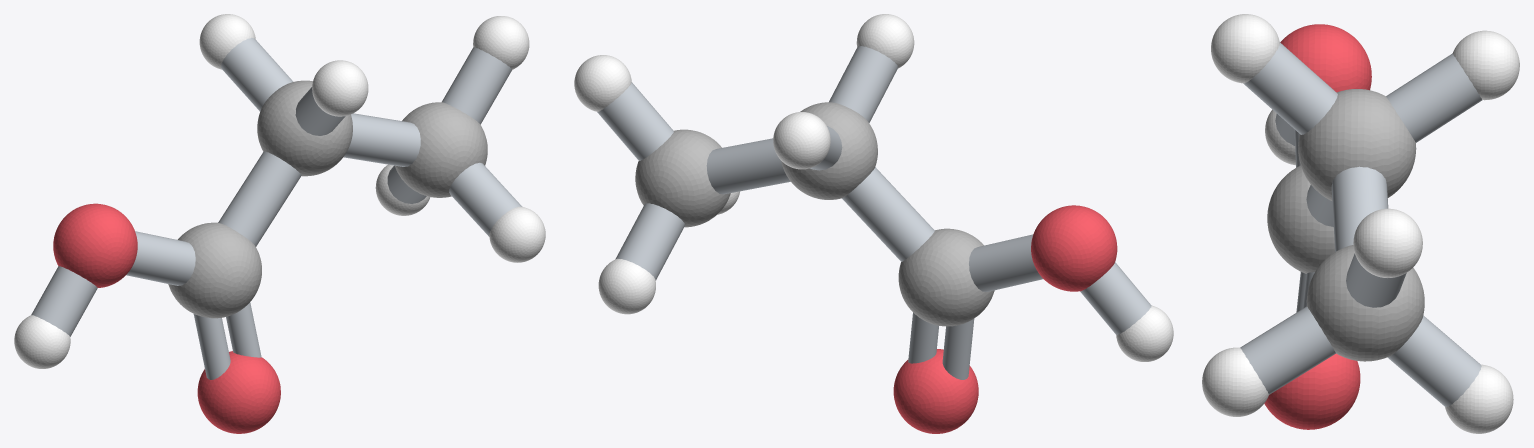
The model's file is Propanoico.glb.
3 views of the same model, side by side, from view 1: azimuth 30°, elevation 25°; view 2: azimuth 150°, elevation 25°; view 3: azimuth 270°, elevation 25° (orthographic). The views are drawn at different scales.
Bounding box in the file's own units: 5.56 × 3.6 × 2.29.
